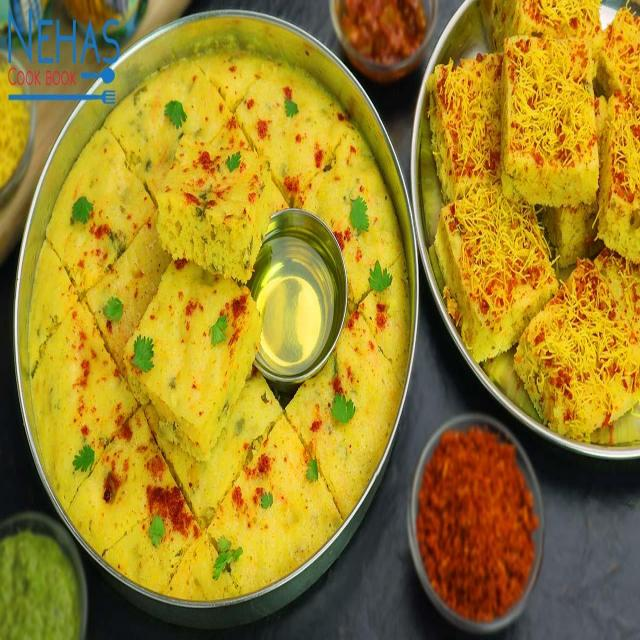dhokla: (19, 4, 424, 612), (374, 0, 634, 483)
